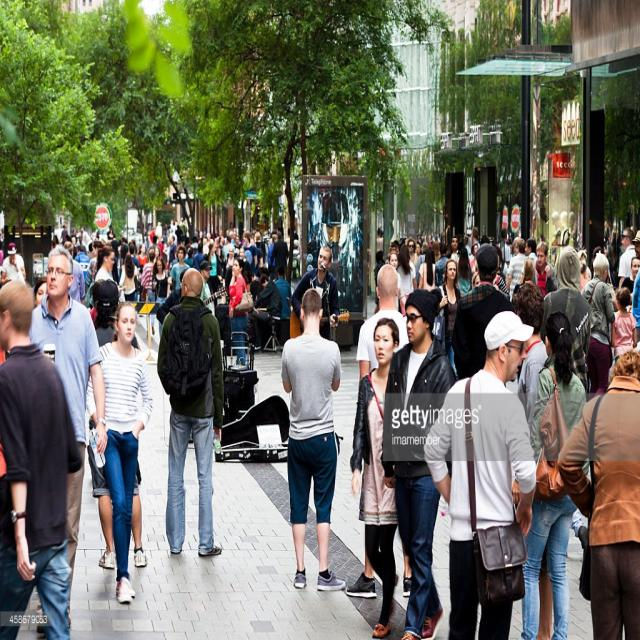body: (418, 305, 536, 639), (368, 224, 638, 354), (52, 215, 302, 352), (28, 244, 110, 636), (0, 276, 84, 638), (377, 285, 461, 639), (556, 347, 640, 639), (345, 263, 413, 597), (520, 308, 588, 640), (278, 282, 348, 594), (84, 300, 152, 606), (156, 267, 224, 559), (87, 278, 149, 571), (349, 317, 399, 640), (510, 280, 554, 640), (156, 267, 223, 450), (540, 244, 593, 403), (581, 251, 616, 404), (291, 245, 340, 341), (432, 258, 462, 382), (228, 256, 254, 365), (252, 272, 282, 353), (613, 287, 638, 366), (150, 256, 172, 341), (528, 240, 558, 300), (318, 188, 348, 248), (394, 244, 418, 318), (506, 235, 528, 304), (140, 250, 156, 339), (617, 228, 637, 290), (454, 245, 474, 299), (273, 267, 293, 321), (206, 242, 222, 308), (118, 252, 139, 302), (1, 243, 26, 285), (198, 258, 216, 316), (168, 243, 190, 290), (512, 256, 537, 295), (418, 246, 437, 292), (620, 254, 640, 294), (434, 242, 449, 288), (578, 256, 600, 285), (33, 279, 51, 311), (629, 228, 637, 276)
